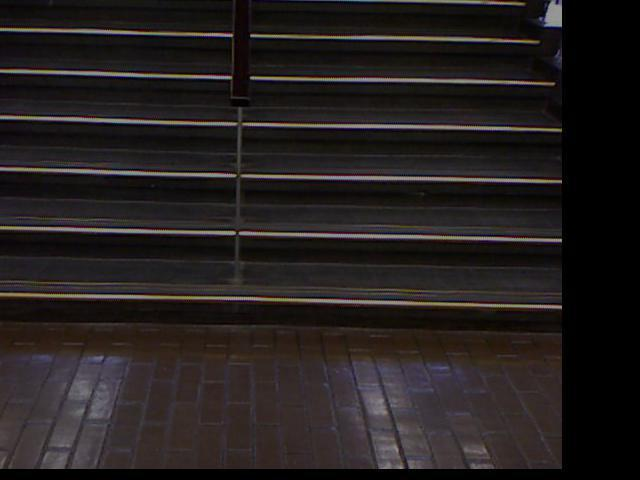Escaleras: (0, 0, 561, 333)
